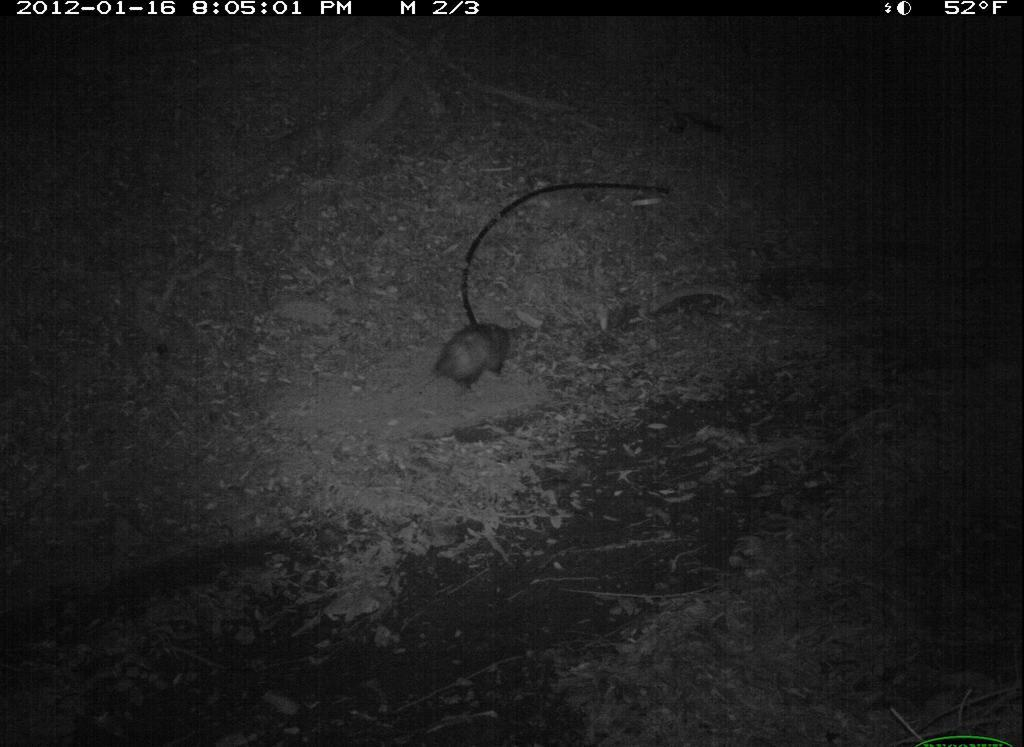opossum: (401, 303, 537, 417)
